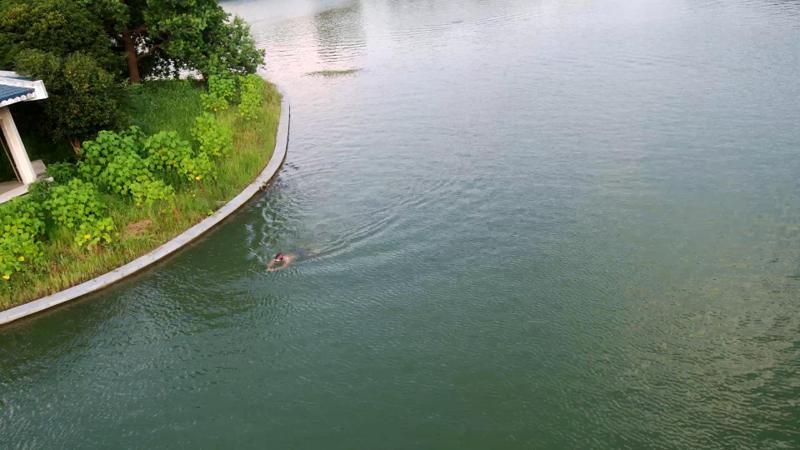swimmers: (265, 246, 310, 273)
